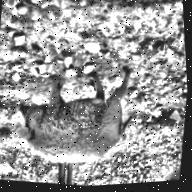boar: (4, 50, 143, 177)
